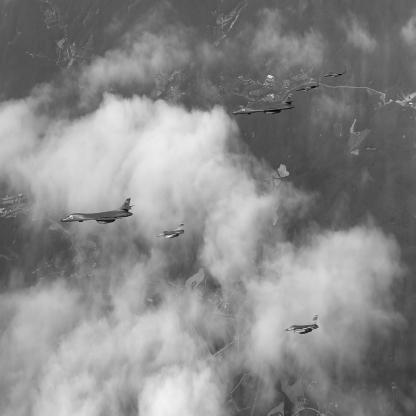B1: (61, 199, 136, 225), (233, 93, 297, 116)
F15: (295, 80, 322, 93), (324, 66, 349, 79)
F16: (284, 316, 320, 336), (157, 222, 186, 240)
